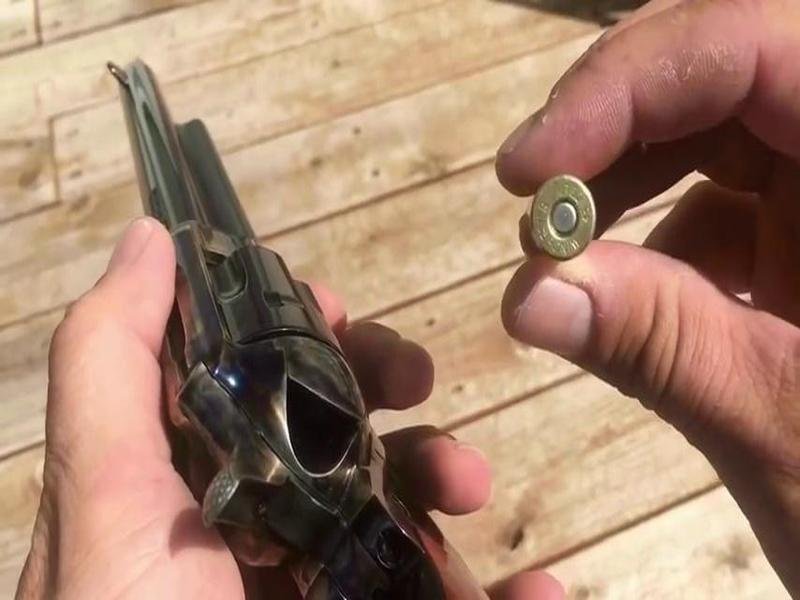Revolver: (87, 59, 407, 600)
